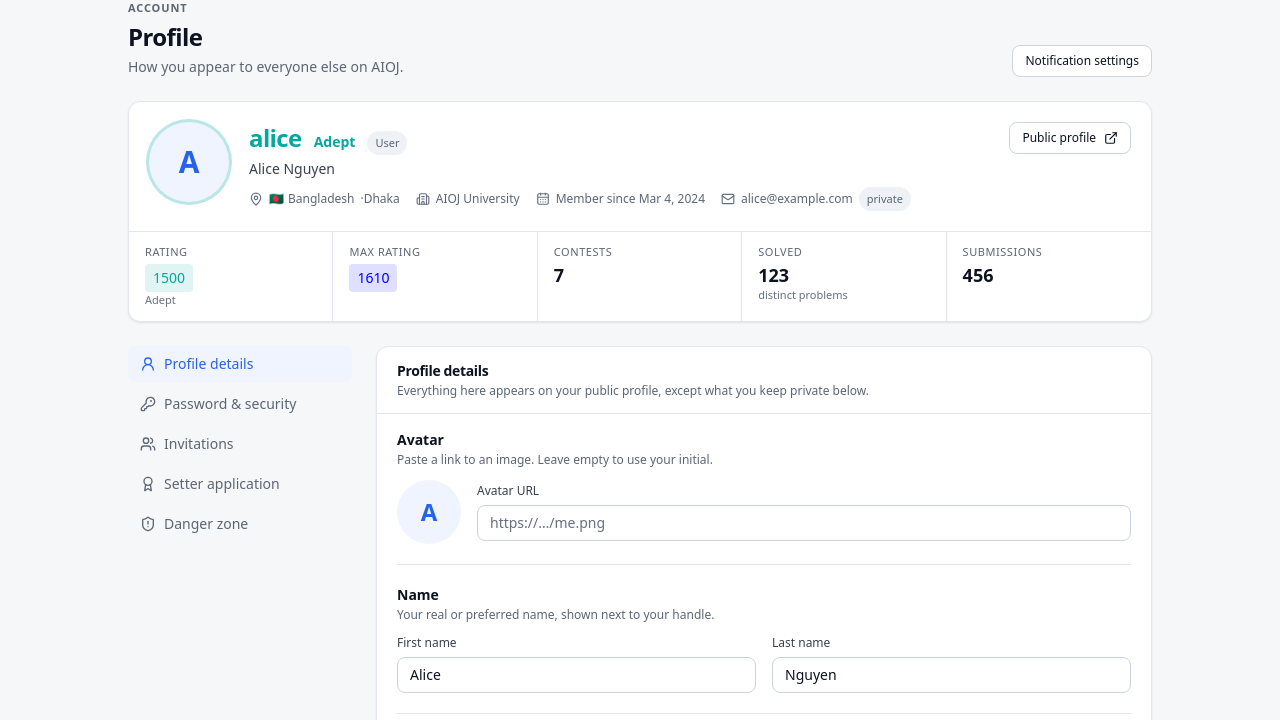
Test case: an invalid avatar URL blocks the save with a field error
Type "not-a-url" into the field labelled "Avatar URL". click: x=804, y=522
box: x1=477 y1=504 x2=1131 y2=540
(page scrolled)
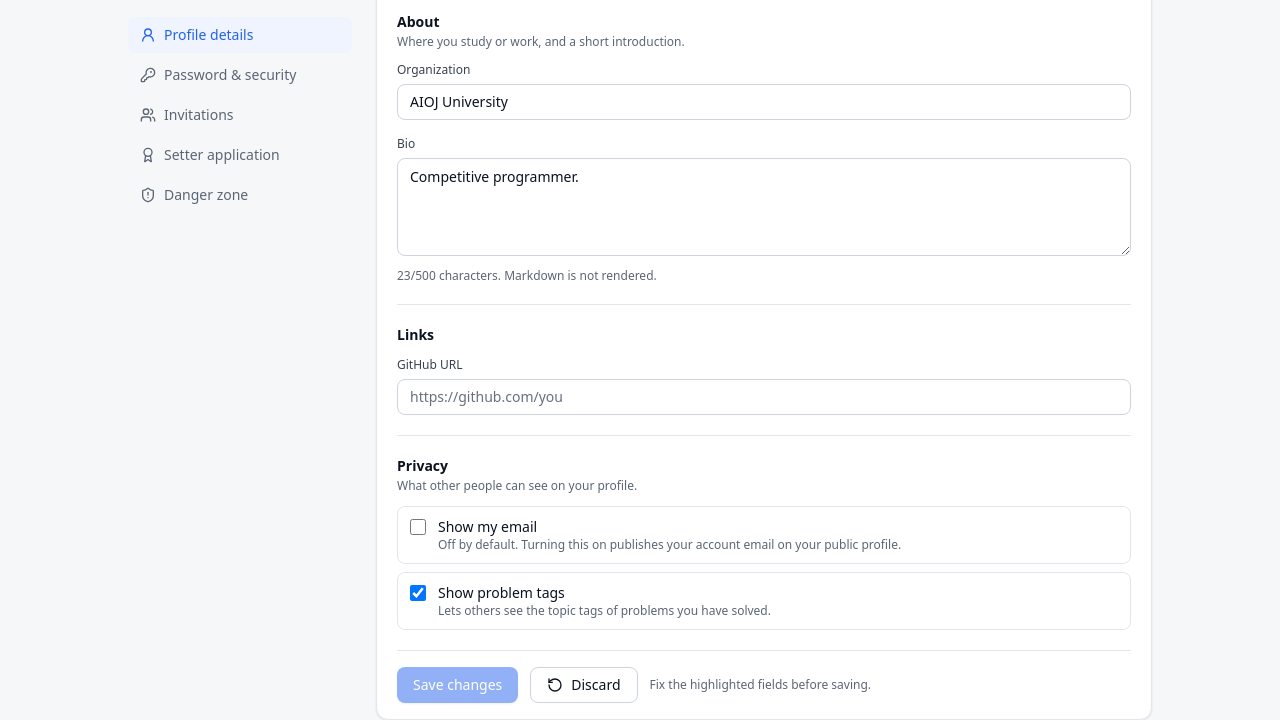
Check: the button "Save changes" is disabled, box x1=397 y1=666 x2=518 y2=702
Check: the text "Fix the highlighted fields before saving." is shown, box x1=650 y1=676 x2=871 y2=692
